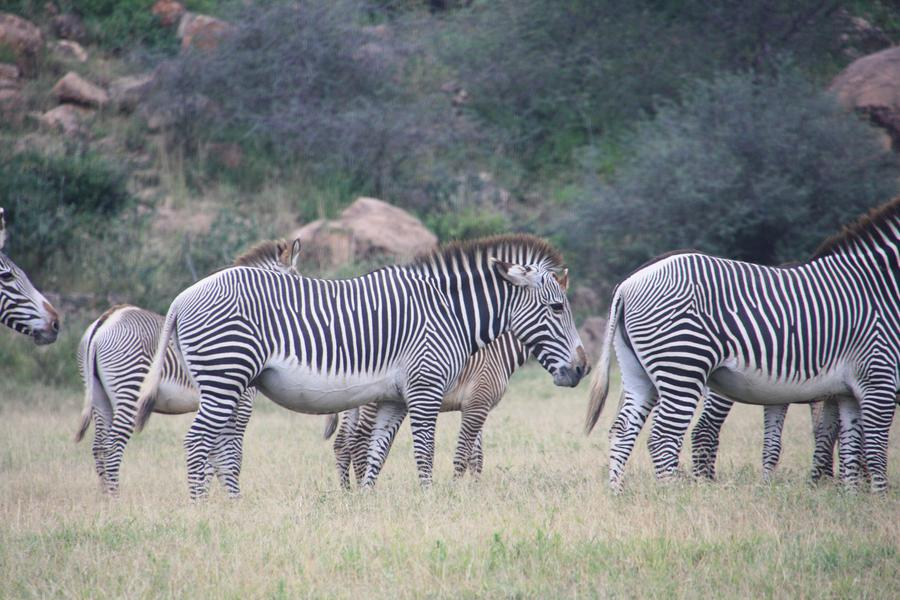zebra_grevys: (170, 267, 452, 390)
